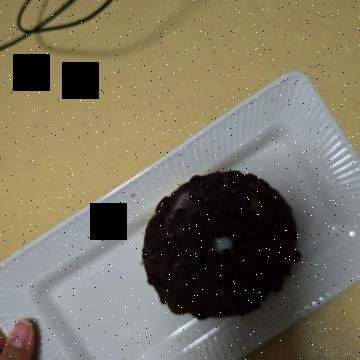doughnut: (156, 60, 337, 242)
